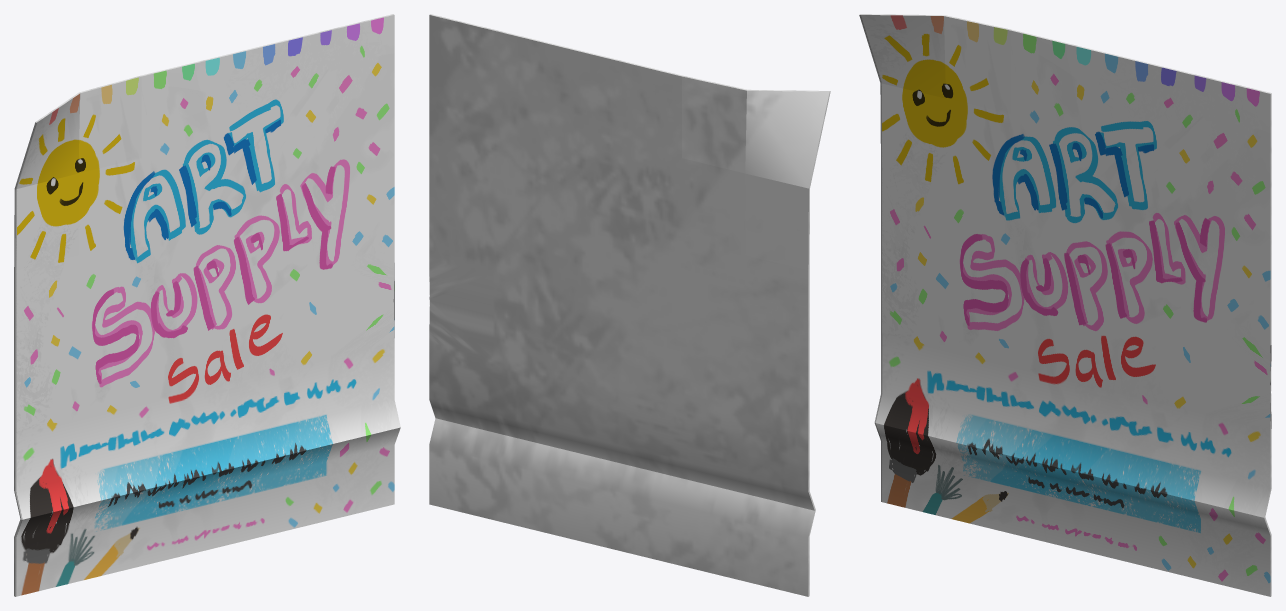
Rendered from Poster_art_supply_sale_textures_folded.fbx.
The picture shows the model from 3 angles, left to right: view 1: azimuth 30°, elevation 25°; view 2: azimuth 150°, elevation 25°; view 3: azimuth 330°, elevation 25°; orthographic projection. The views are drawn at different scales.
Visible parts, largest first — view 1: Poster_art_supply_sale_textures; view 2: Poster_art_supply_sale_textures; view 3: Poster_art_supply_sale_textures.
Part boxes in pixels (x1=…): Poster_art_supply_sale_textures: x1=14, y1=14, x2=400, y2=596; Poster_art_supply_sale_textures: x1=429, y1=14, x2=830, y2=596; Poster_art_supply_sale_textures: x1=859, y1=14, x2=1271, y2=596.
Bounding box in the file's own units: 0.1934 × 0.2386 × 0.0197.
1 material, 1 textured.
